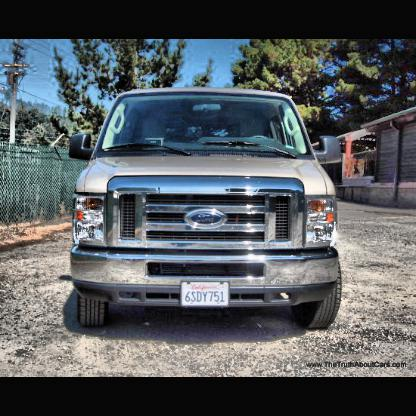Ford E-Series Wagon Van 2012: (73, 89, 343, 335)
